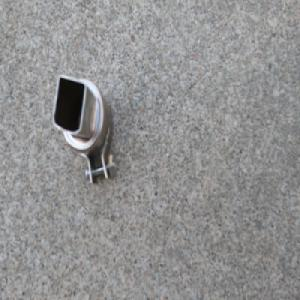MetalPart: (51, 71, 118, 188)
